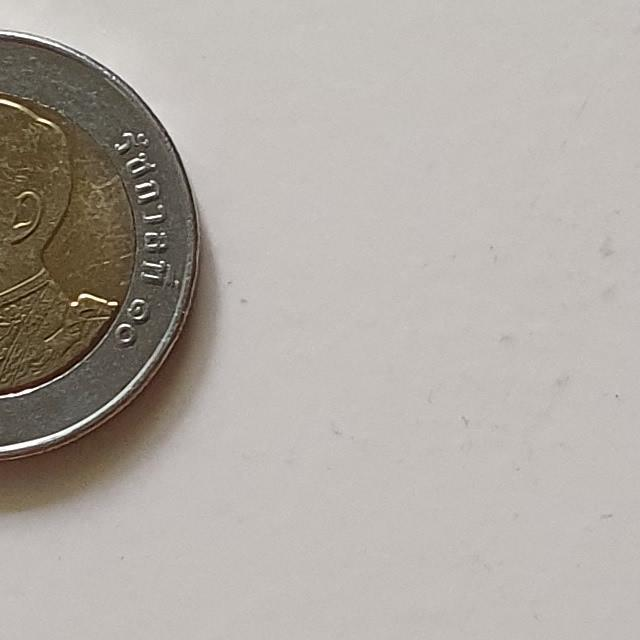10 Bath: (1, 16, 208, 467)
